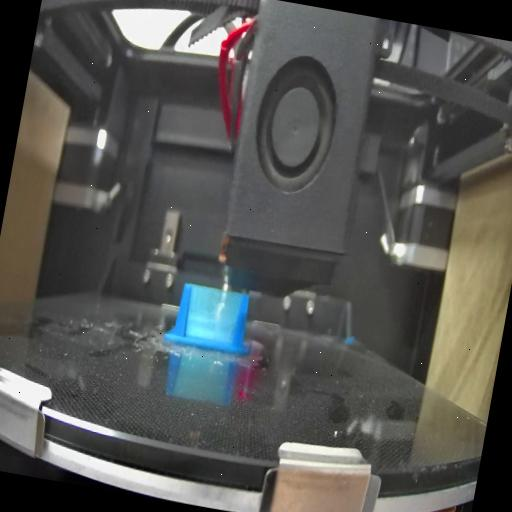stringing: (182, 284, 240, 348)
